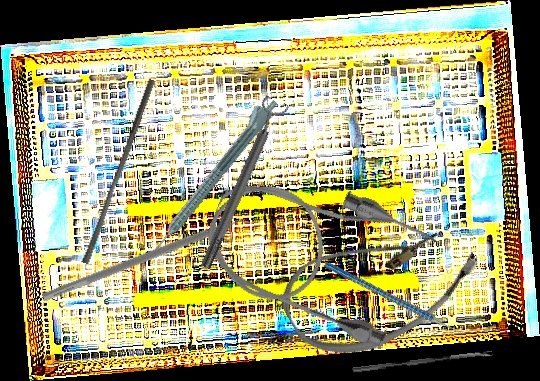Cannula: (190, 148, 442, 355), (269, 190, 491, 379)
Chopper: (323, 220, 477, 376)
Fixation Ring: (190, 94, 292, 273)
Handpiece: (143, 92, 281, 256)
Pusher: (81, 76, 156, 267)
Spatula Surgical: (41, 210, 255, 311)
Surgical Spoon: (352, 350, 493, 374)
